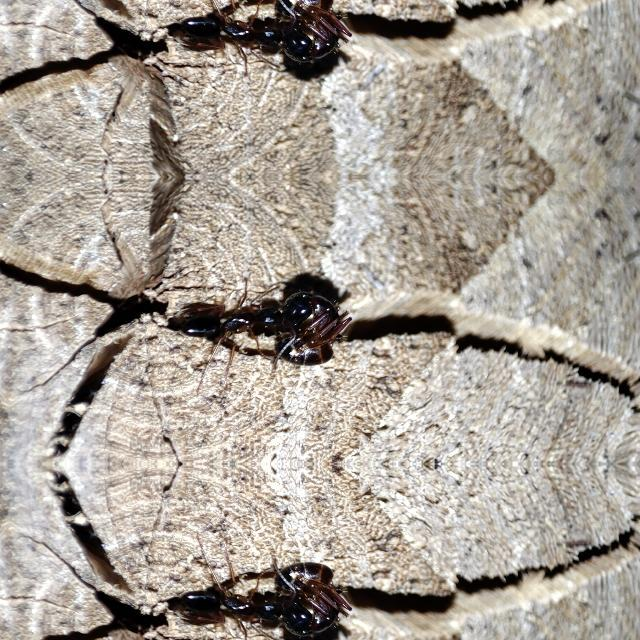Camponotus: (165, 286, 282, 344), (165, 8, 282, 66), (165, 582, 282, 640), (272, 281, 346, 371), (272, 556, 344, 640), (271, 0, 344, 70)
